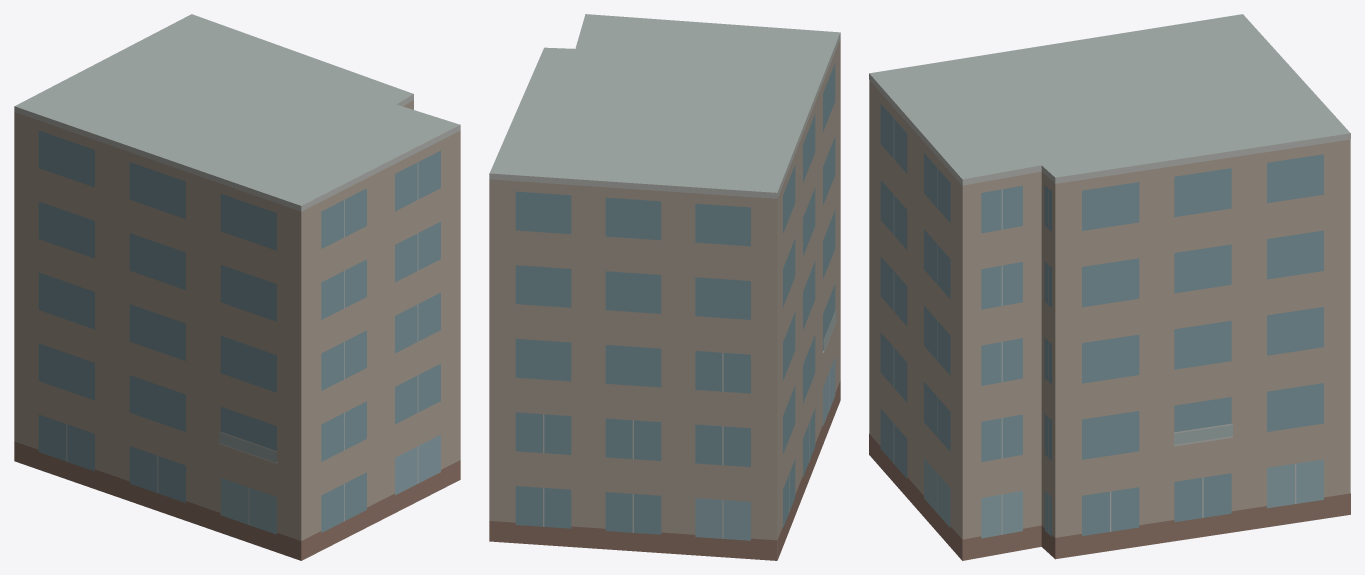
The model's file is survey-upis-32867921.glb.
3 views of the same model, side by side, from view 1: azimuth 30°, elevation 25°; view 2: azimuth 150°, elevation 25°; view 3: azimuth 270°, elevation 25° (orthographic). The views are drawn at different scales.
Parts seen in each view (by area): view 1: survey-upis-32867921.tmp; view 2: survey-upis-32867921.tmp; view 3: survey-upis-32867921.tmp.
Part boxes in pixels (<box>): survey-upis-32867921.tmp: <box>14,14,460,560</box>; survey-upis-32867921.tmp: <box>489,14,840,560</box>; survey-upis-32867921.tmp: <box>869,14,1350,560</box>.
Size of the model in its own units: 14.06 by 15.1 by 17.29.
